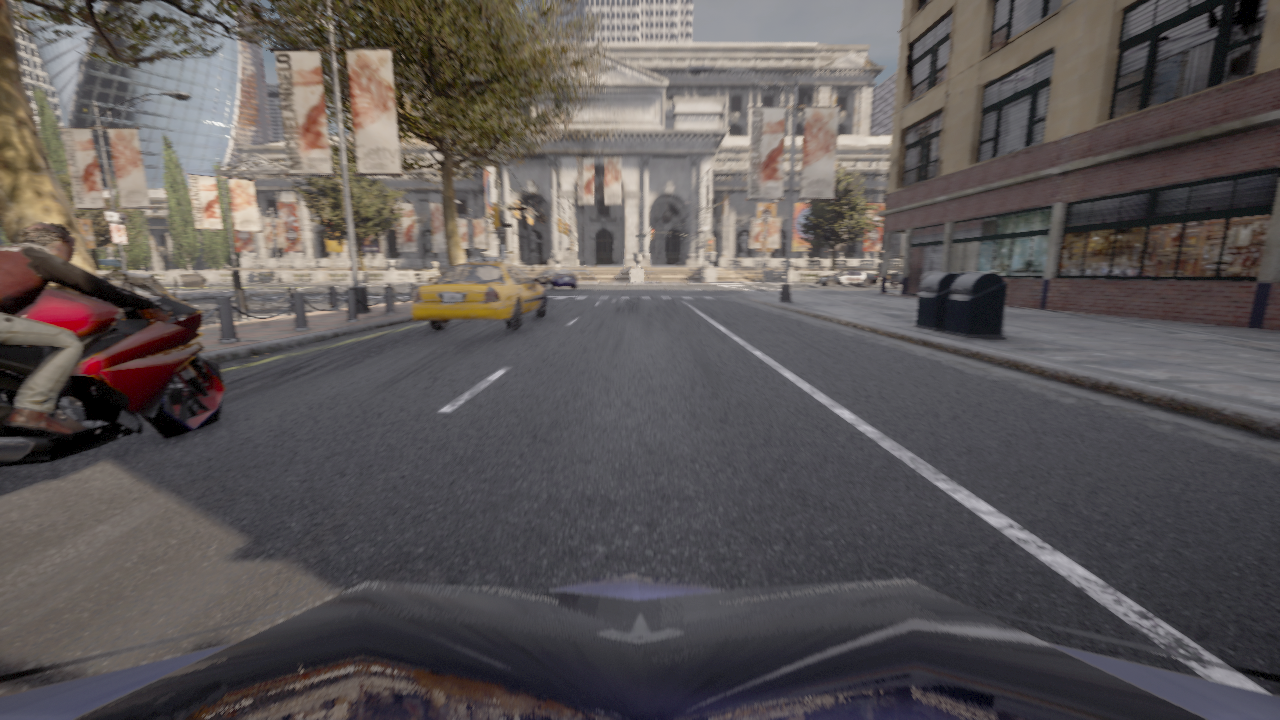cyclist: (0, 569, 1279, 719), (0, 269, 224, 467), (412, 257, 546, 330), (813, 269, 877, 287), (536, 269, 576, 289), (887, 271, 901, 287)
